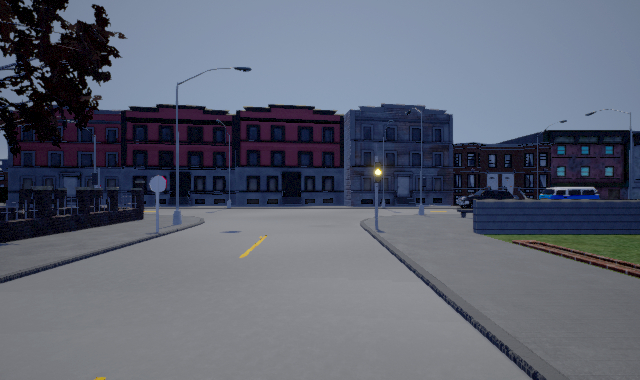traffic_light: (374, 160, 383, 184)
vehicle: (456, 189, 514, 209), (539, 187, 600, 199)
